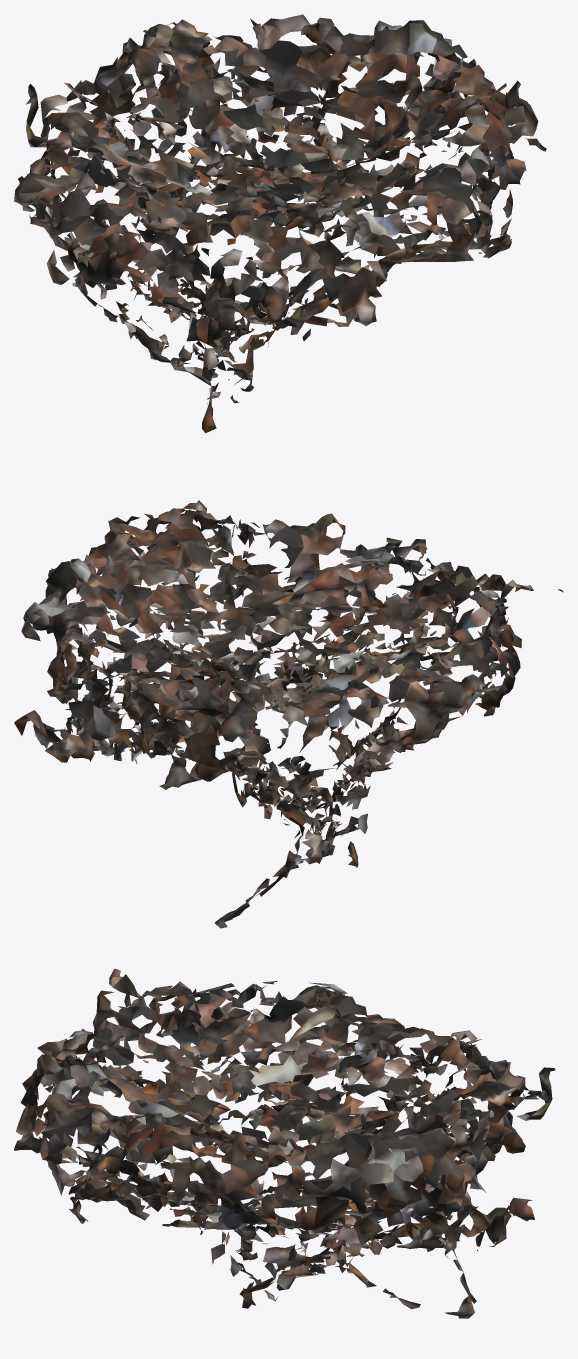
Rendered from FriendlyNest.fbx.
The picture shows the model from 3 angles, top to bottom: view 1: azimuth 30°, elevation 25°; view 2: azimuth 150°, elevation 25°; view 3: azimuth 270°, elevation 25°; orthographic projection. The views are drawn at different scales.
Parts seen in each view (by area): view 1: Model; view 2: Model; view 3: Model.
Part boxes in pixels (x1,y1,x2,y2): Model: (14,14,546,433); Model: (14,500,563,928); Model: (14,968,555,1318).
Size of the model in its own units: 362 by 262 by 382.
